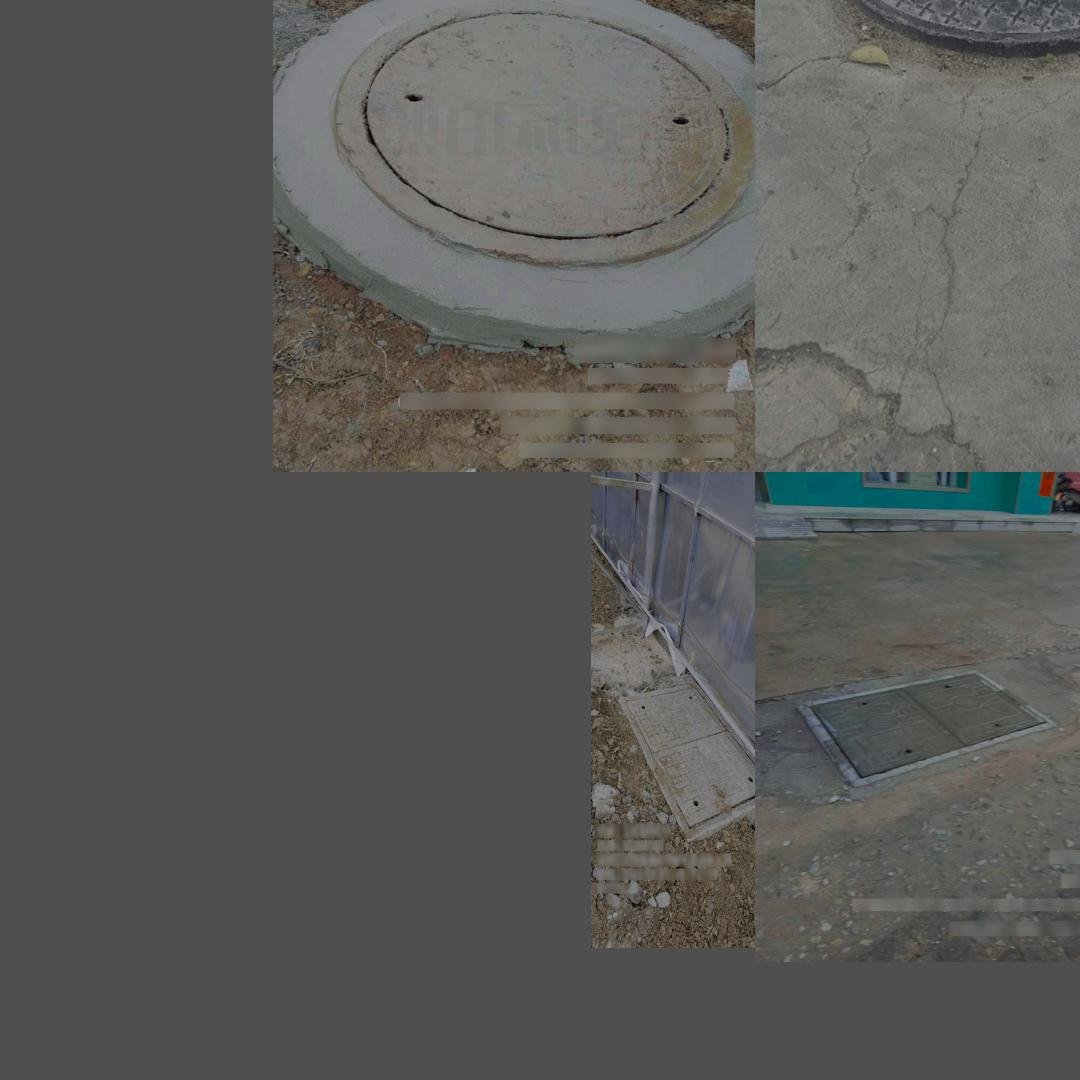good: (336, 0, 754, 266), (799, 668, 1057, 787), (622, 685, 754, 839), (826, 0, 1080, 58)
